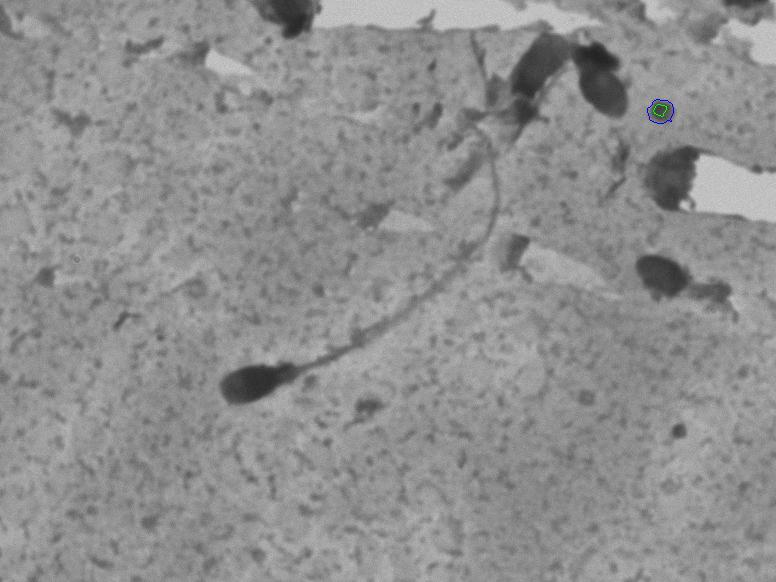Abnormal: (189, 92, 541, 446)
